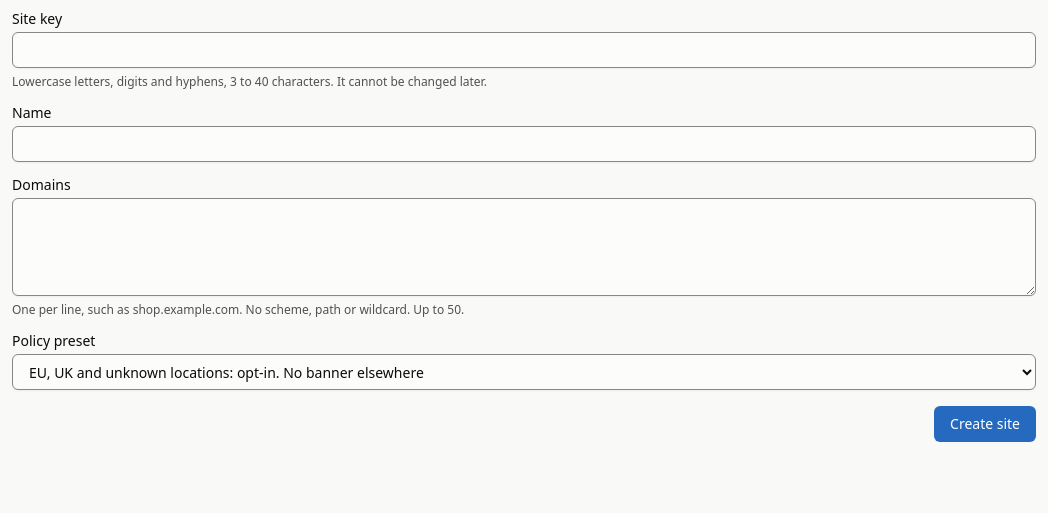
Test: a non-API error shows the generic text, not its own message
In the field labelled "Site key": (524, 50) [12, 32, 1036, 68], type "shop"
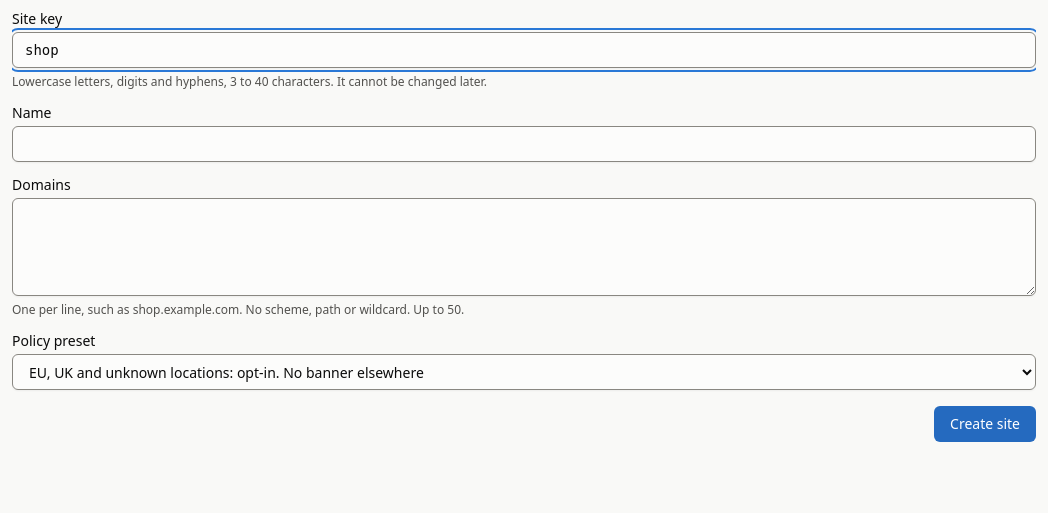
In the field labelled "Name": (524, 144) [12, 126, 1036, 162], type "Shop"
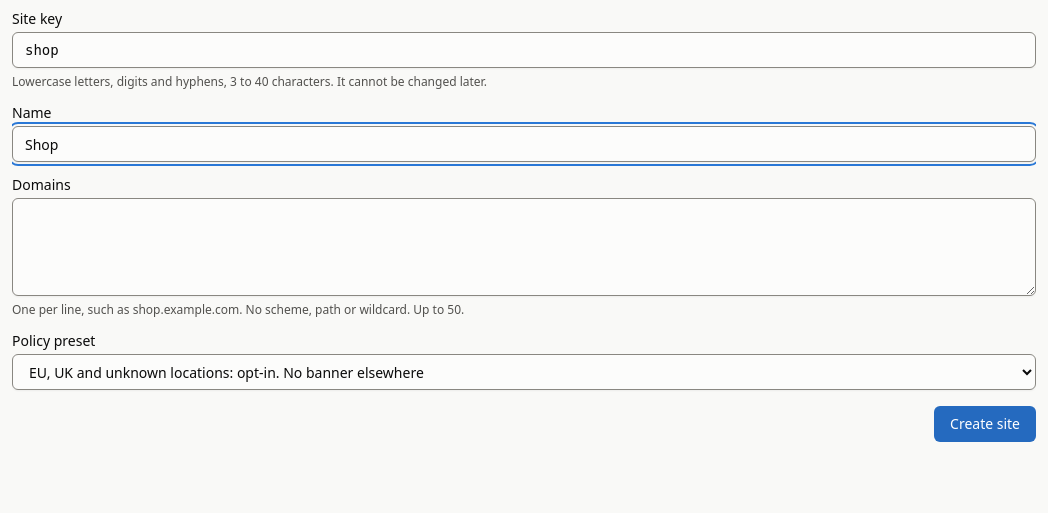
In the text box labelled "Domains": (524, 247) [12, 198, 1036, 296], type "shop.example.com"
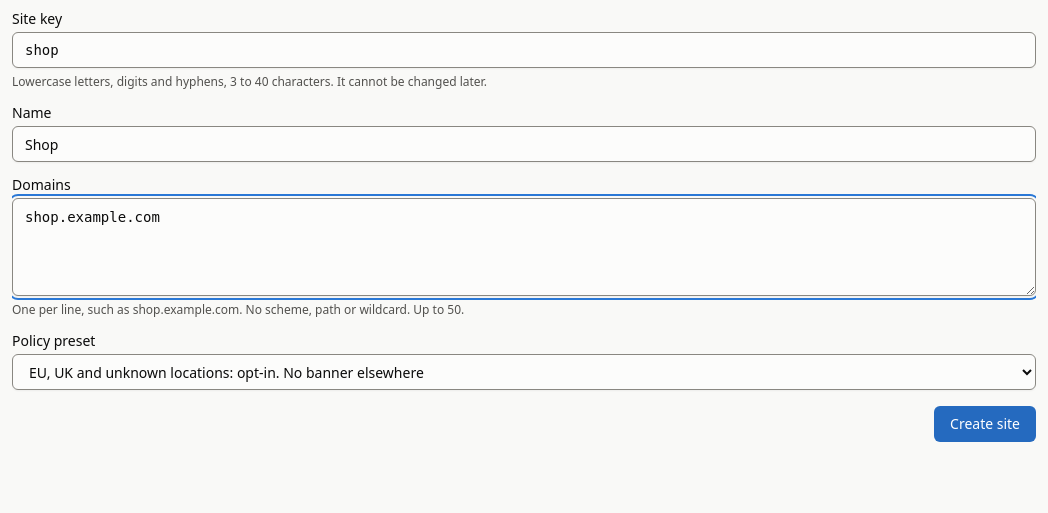
Click the button "Create site": (985, 424) [934, 406, 1036, 442]
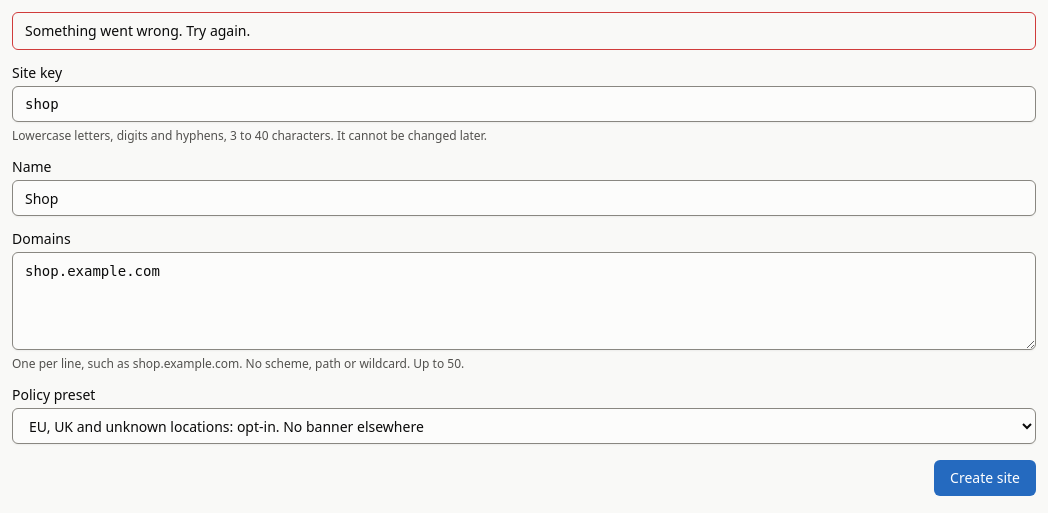
Now the message reads "Something went wrong. Try again.", box [25, 21, 250, 40]
